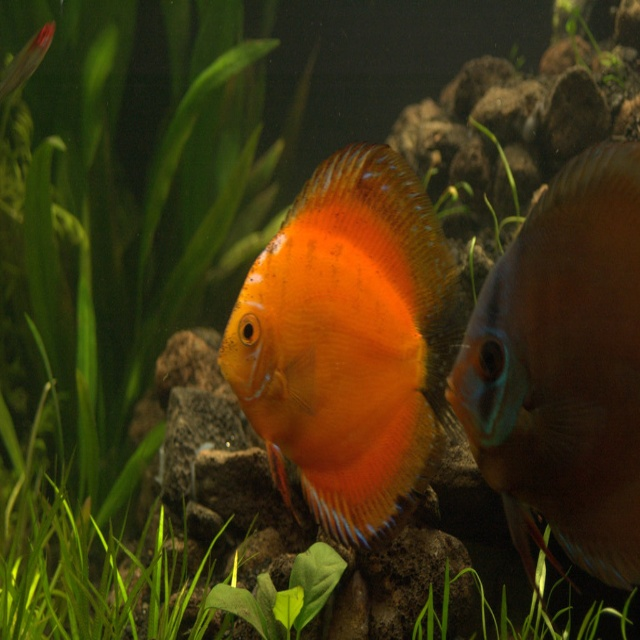Fish: (217, 139, 472, 554), (446, 139, 640, 634)
